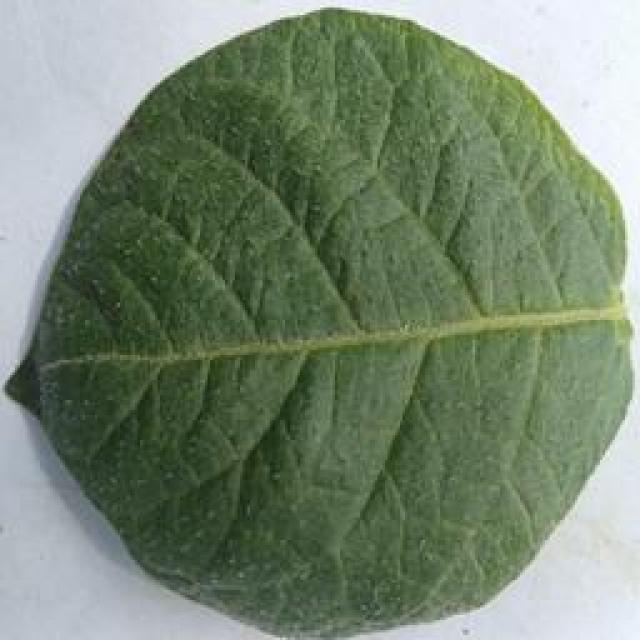Potato_Healthy: (7, 3, 633, 628)
